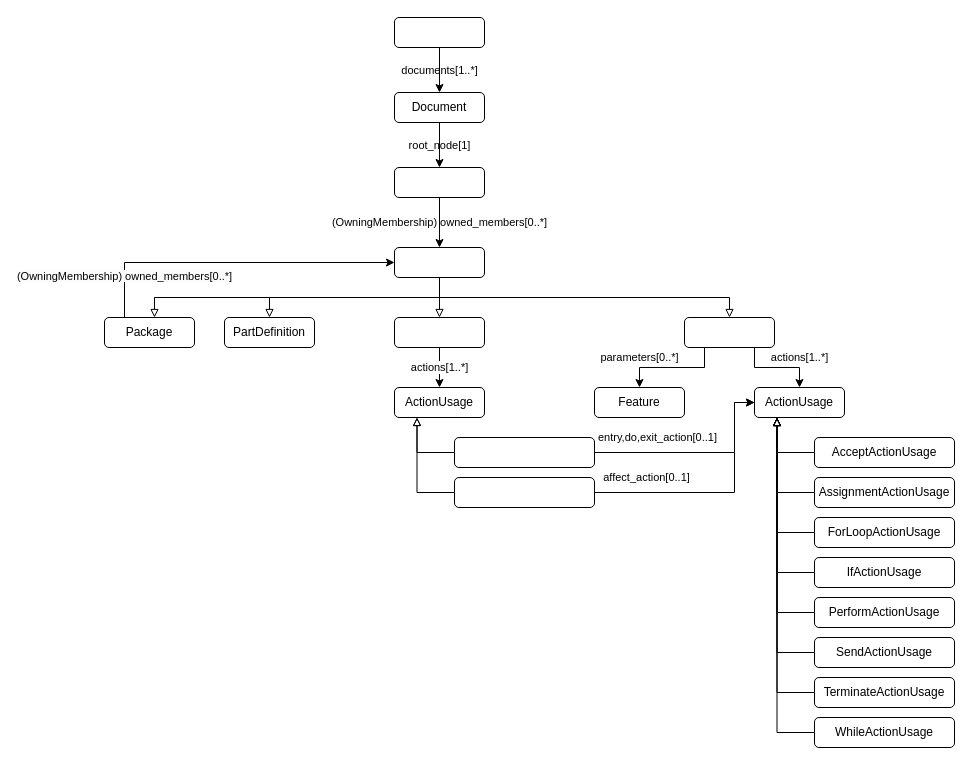
Some shapes in this 972 by 765 pixel diagram are drawn without their labels. Here are the shapes that lost their labels. From the top down, the centre of each, then its label:
the point at 439,32: Model
the point at 439,182: Namespace
the point at 439,262: Element
the point at 439,332: StateDefinition
the point at 729,332: ActionDefinition
the point at 524,452: StateUsage
the point at 524,492: TransitionUsage
